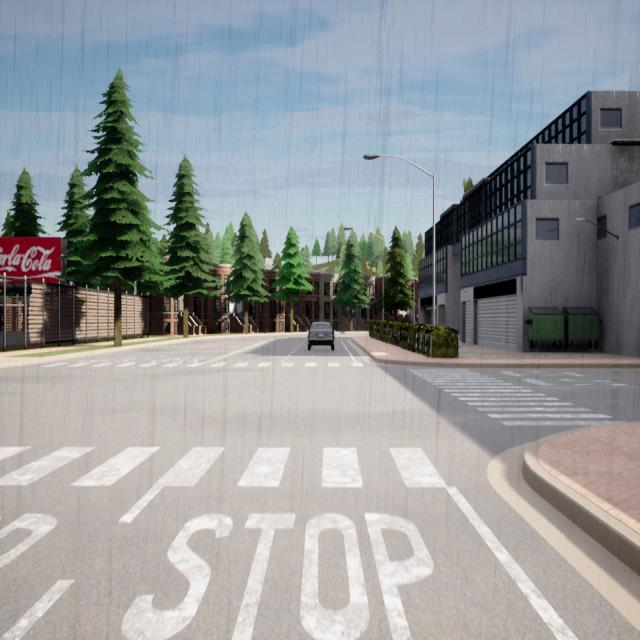Vehicle: (308, 322, 334, 350)
